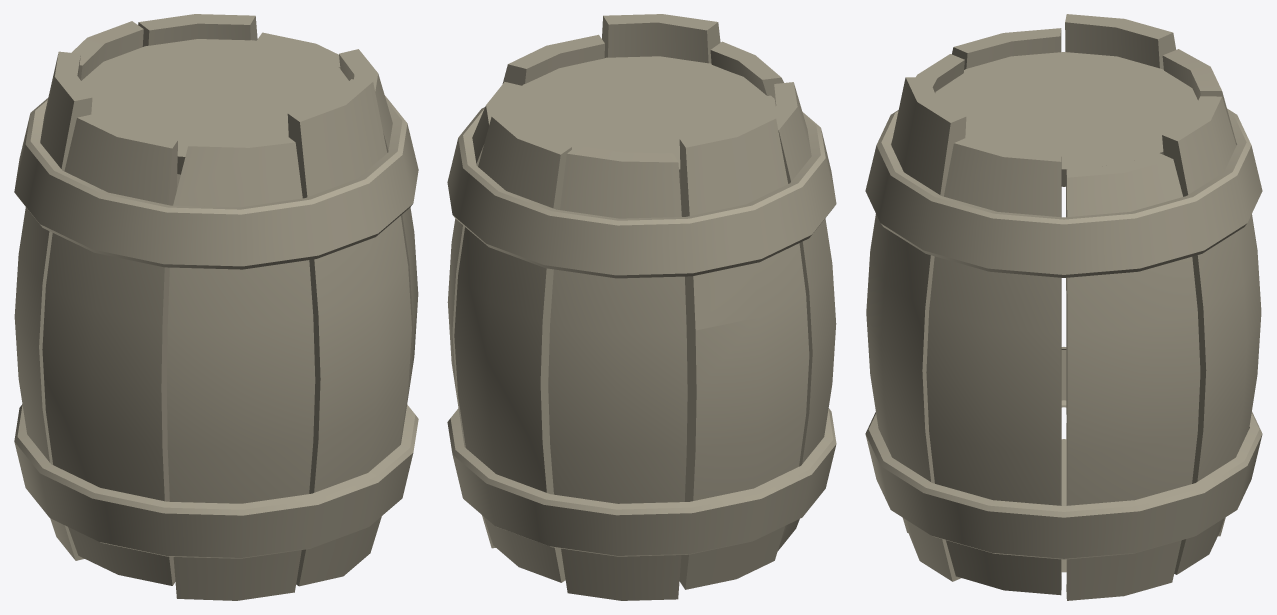
The model's file is Barrel.fbx.
3 renders of one model, left to right at view 1: azimuth 30°, elevation 25°; view 2: azimuth 150°, elevation 25°; view 3: azimuth 270°, elevation 25°, orthographic. The views are drawn at different scales.
Visible parts, largest first — view 1: base1, ring1, ring2, up; view 2: base1, ring1, ring2, up; view 3: base1, ring1, up, ring2.
Part boxes in pixels (x1=…): base1: x1=14, y1=14, x2=418, y2=600; ring1: x1=14, y1=95, x2=418, y2=269; ring2: x1=14, y1=404, x2=418, y2=558; up: x1=81, y1=39, x2=348, y2=174; base1: x1=447, y1=14, x2=836, y2=600; ring1: x1=447, y1=107, x2=836, y2=278; ring2: x1=447, y1=408, x2=836, y2=556; up: x1=506, y1=56, x2=775, y2=186; base1: x1=866, y1=14, x2=1261, y2=600; ring1: x1=865, y1=108, x2=1262, y2=277; up: x1=935, y1=52, x2=1197, y2=186; ring2: x1=865, y1=347, x2=1262, y2=559.
Bounding box in the file's own units: 1.26 × 1.62 × 1.26.
